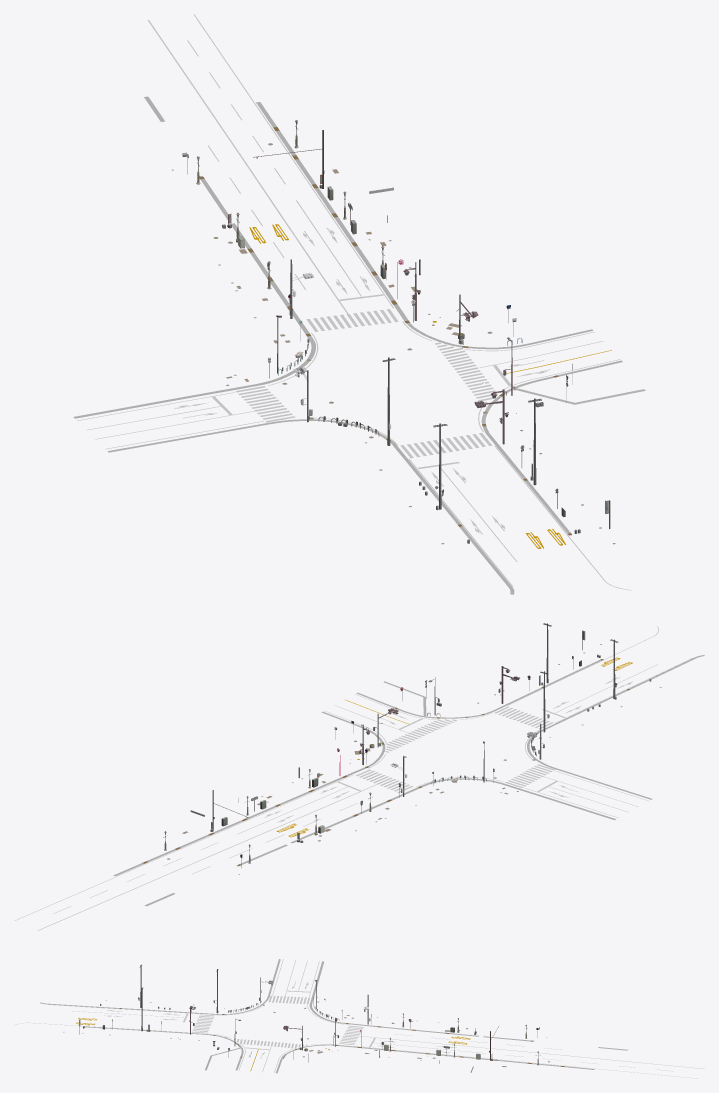
The model's file is frn--12.glb.
3 renders of one model, top to bottom at view 1: azimuth 30°, elevation 25°; view 2: azimuth 150°, elevation 25°; view 3: azimuth 270°, elevation 25°, orthographic. The views are drawn at different scales.
Bounding box in the file's own units: 75.51 × 13.33 × 179.
Materials: 2 (1 with a texture image).
